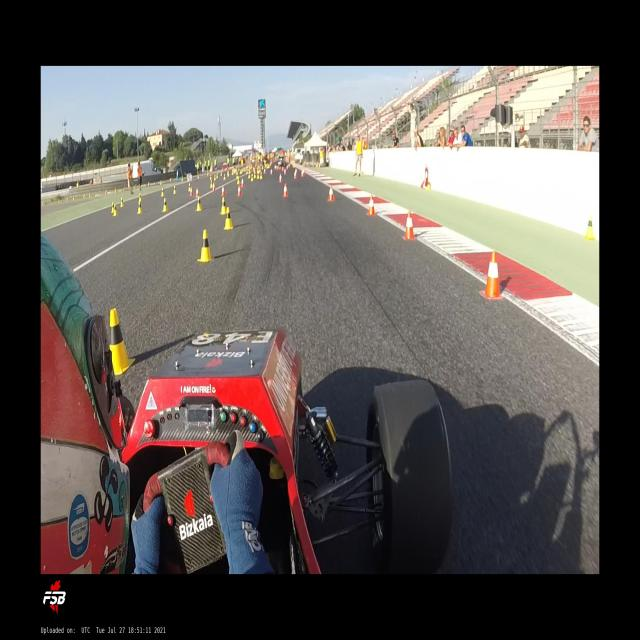orange_cone: (481, 252, 505, 300), (402, 211, 416, 240), (366, 196, 376, 217), (328, 186, 334, 202), (282, 184, 288, 198), (196, 186, 200, 198), (237, 185, 241, 197), (221, 186, 225, 197), (240, 178, 244, 188), (190, 186, 193, 196), (212, 183, 215, 192), (279, 174, 282, 182), (294, 171, 297, 179), (301, 170, 304, 177), (303, 169, 304, 176)
yellow_cone: (110, 308, 136, 374), (197, 229, 214, 262), (584, 216, 594, 240), (224, 207, 234, 230), (220, 197, 227, 215), (195, 196, 202, 211), (162, 198, 168, 212), (136, 202, 142, 214), (113, 204, 117, 217), (426, 181, 431, 191), (110, 202, 114, 214), (120, 197, 123, 208), (138, 193, 142, 201), (161, 187, 164, 197), (188, 183, 191, 192), (173, 186, 176, 194), (260, 172, 263, 180), (237, 177, 240, 184), (253, 172, 256, 178), (210, 180, 212, 188), (257, 172, 259, 179), (251, 174, 253, 181), (248, 172, 250, 178)
